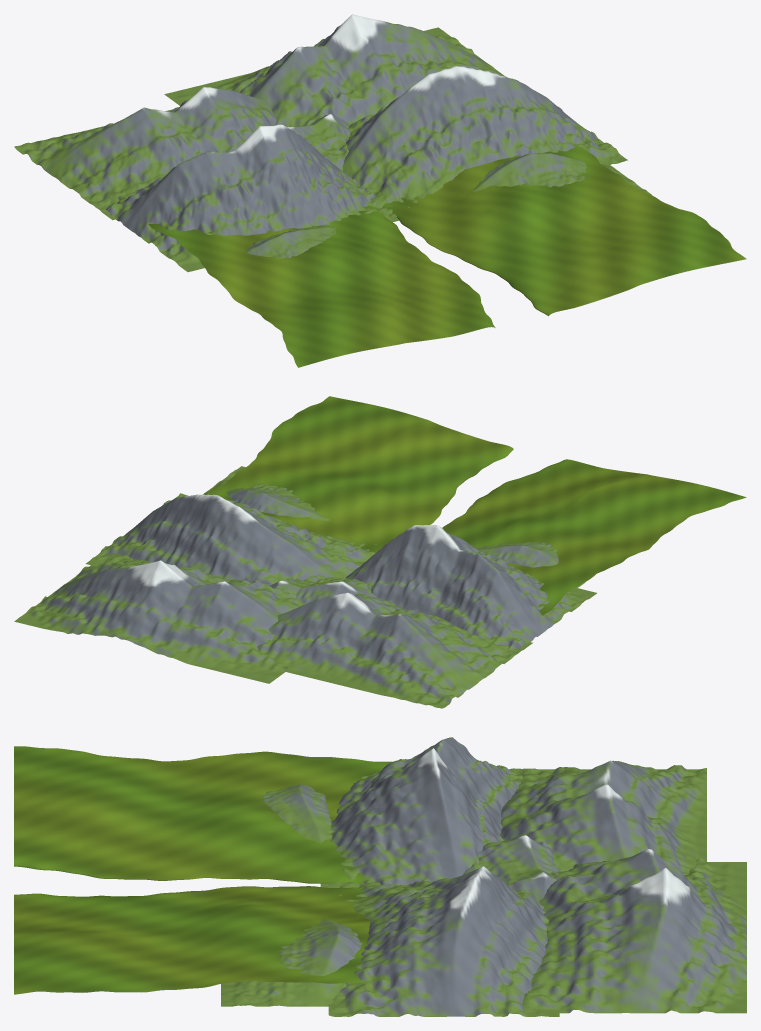
The model's file is alpine-terrain-v1.glb.
The picture shows the model from 3 angles, top to bottom: view 1: azimuth 30°, elevation 25°; view 2: azimuth 150°, elevation 25°; view 3: azimuth 270°, elevation 25°; orthographic projection. The views are drawn at different scales.
Parts seen in each view (by area): view 1: east-bank, west-bank, east-alpine-massif, west-alpine-massif, distant-east, distant-west, east-meadow-shoulder, middle-saddle, west-meadow-shoulder; view 2: east-bank, distant-east, west-bank, distant-west, west-alpine-massif, east-alpine-massif, east-meadow-shoulder, middle-saddle, west-meadow-shoulder; view 3: west-bank, distant-east, east-bank, east-alpine-massif, west-alpine-massif, distant-west, east-meadow-shoulder, middle-saddle, west-meadow-shoulder.
Boxes of the visible parts, <box> form: east-bank: <box>373,144,746,315</box>; west-bank: <box>148,205,495,367</box>; east-alpine-massif: <box>342,66,627,218</box>; west-alpine-massif: <box>98,124,399,271</box>; distant-east: <box>164,14,512,127</box>; distant-west: <box>14,87,276,220</box>; east-meadow-shoulder: <box>472,153,652,195</box>; middle-saddle: <box>287,114,350,171</box>; west-meadow-shoulder: <box>246,225,335,258</box>; east-bank: <box>206,396,513,562</box>; distant-east: <box>14,553,302,683</box>; west-bank: <box>442,459,746,615</box>; distant-west: <box>257,592,532,708</box>; west-alpine-massif: <box>345,525,596,653</box>; east-alpine-massif: <box>85,493,376,585</box>; east-meadow-shoulder: <box>203,466,329,520</box>; middle-saddle: <box>270,575,376,603</box>; west-meadow-shoulder: <box>474,542,595,593</box>; west-bank: <box>14,746,392,883</box>; distant-east: <box>522,849,746,1013</box>; east-bank: <box>14,886,371,994</box>; east-alpine-massif: <box>328,866,559,1016</box>; west-alpine-massif: <box>320,737,527,888</box>; distant-west: <box>500,760,706,874</box>; east-meadow-shoulder: <box>221,919,362,1006</box>; middle-saddle: <box>463,835,558,903</box>; west-meadow-shoulder: <box>262,784,333,842</box>.
Bounding box in the file's own units: 154 × 25.04 × 184.
